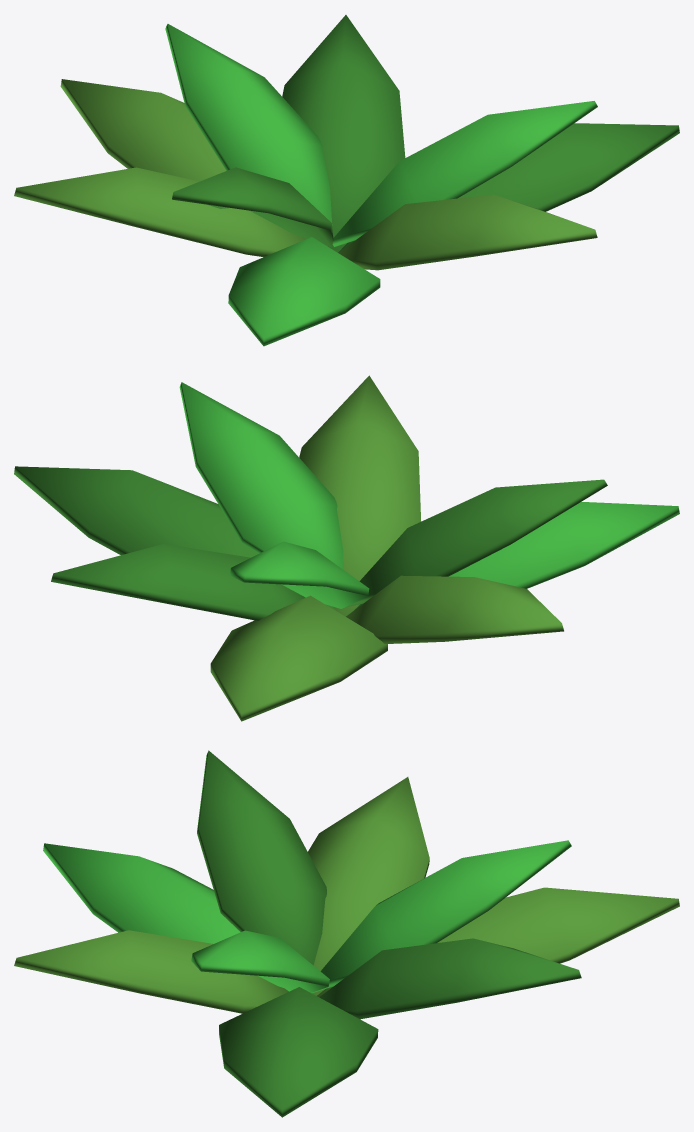
Rendered from Leaf_Plant_Green_2.fbx.
The picture shows the model from 3 angles, top to bottom: view 1: azimuth 30°, elevation 25°; view 2: azimuth 150°, elevation 25°; view 3: azimuth 270°, elevation 25°; orthographic projection.
Visible parts, largest first — view 1: Plane.057, Plane.061, Plane.062, Plane.056, Plane.055, Plane.058, Plane.059, Plane.060, Plane.063; view 2: Plane.062, Plane.056, Plane.059, Plane.060, Plane.063, Plane.055, Plane.057, Plane.058, Plane.061; view 3: Plane.063, Plane.060, Plane.057, Plane.055, Plane.061, Plane.056, Plane.058, Plane.059, Plane.062.
Part boxes in pixels (x1=…): Plane.057: x1=282, y1=15, x2=405, y2=252; Plane.061: x1=165, y1=24, x2=332, y2=225; Plane.062: x1=332, y1=101, x2=597, y2=246; Plane.056: x1=338, y1=194, x2=597, y2=270; Plane.055: x1=14, y1=167, x2=306, y2=256; Plane.058: x1=228, y1=237, x2=380, y2=346; Plane.059: x1=60, y1=79, x2=226, y2=181; Plane.060: x1=338, y1=123, x2=679, y2=252; Plane.063: x1=172, y1=167, x2=333, y2=247; Plane.062: x1=179, y1=382, x2=343, y2=569; Plane.056: x1=299, y1=375, x2=421, y2=616; Plane.059: x1=210, y1=595, x2=387, y2=721; Plane.060: x1=14, y1=466, x2=335, y2=610; Plane.063: x1=345, y1=479, x2=607, y2=607; Plane.055: x1=346, y1=575, x2=563, y2=643; Plane.057: x1=51, y1=544, x2=305, y2=620; Plane.058: x1=355, y1=502, x2=679, y2=609; Plane.061: x1=230, y1=541, x2=369, y2=608; Plane.063: x1=197, y1=750, x2=326, y2=965; Plane.060: x1=219, y1=987, x2=378, y2=1117; Plane.057: x1=319, y1=938, x2=581, y2=1019; Plane.055: x1=308, y1=777, x2=429, y2=995; Plane.061: x1=311, y1=840, x2=571, y2=993; Plane.056: x1=14, y1=930, x2=288, y2=1013; Plane.058: x1=43, y1=843, x2=290, y2=991; Plane.059: x1=317, y1=887, x2=679, y2=996; Plane.062: x1=191, y1=930, x2=329, y2=992.
Size of the model in its own units: 176 by 44.93 by 167.
